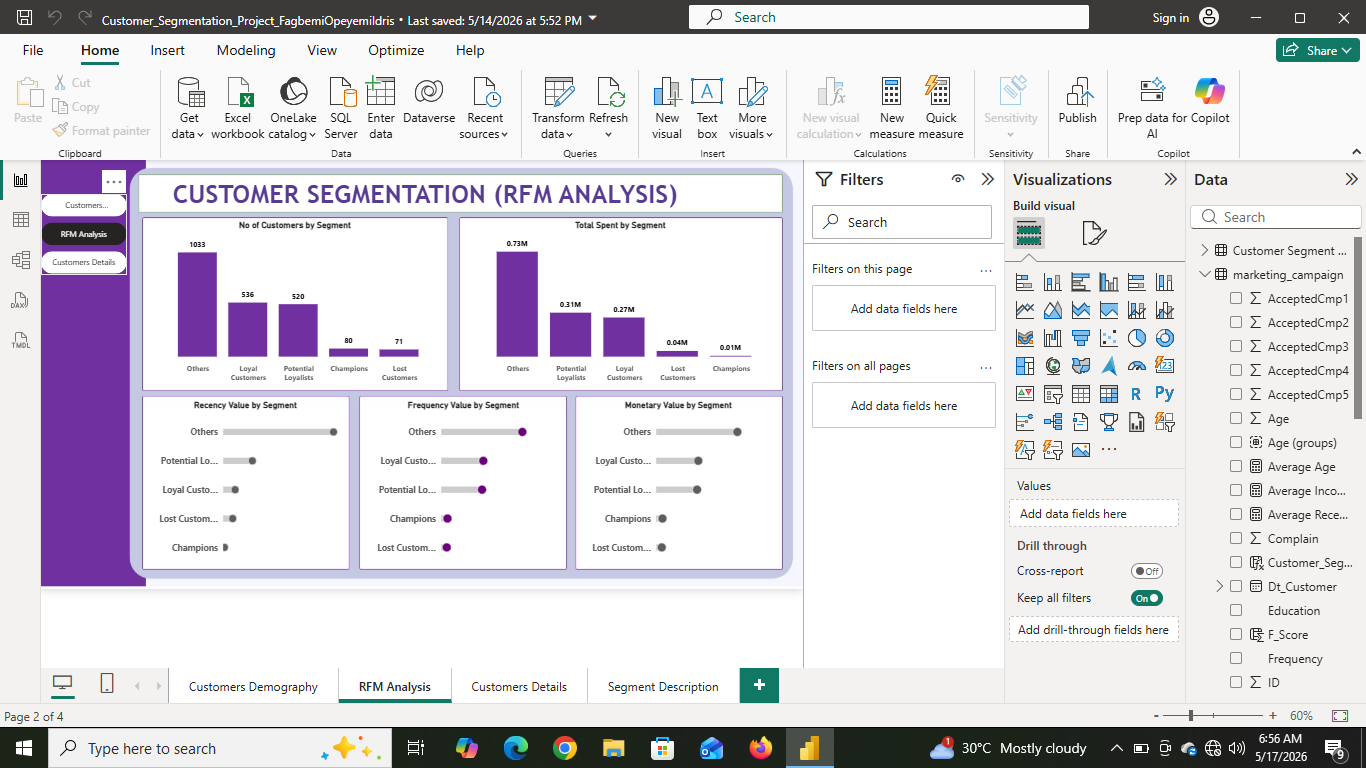

The page's visual inventory and layout, read from the dashboard file:
{"tool":"powerbi","page":{"name":"RFM Analysis","canvas":[1280,720],"ordinal":1},"visuals":[{"type":"columnChart","title":"No of Customers by Segment","fields":{"Category":["marketing_campaign.Customer_Segment"],"Y":["CountNonNull(marketing_campaign.ID)"]},"box":[178.1,100.8,497.2,280.5],"z":0},{"type":"columnChart","title":"Total Spent by Segment","fields":{"Category":["marketing_campaign.Customer_Segment"],"Y":["Sum(marketing_campaign.Total_Spent)"]},"box":[710.6,100.8,525.8,280.5],"z":1000},{"type":"barChart","title":"Recency Value by Segment","fields":{"Category":["marketing_campaign.Customer_Segment"],"Y":["Sum(marketing_campaign.Recency)"]},"box":[178.1,403.1,330.9,278.8],"z":2000},{"type":"textbox","box":[176.4,26.9,967.6,58.8],"z":3000},{"type":"pageNavigator","box":[0,57.1,144.5,136.1],"z":4000},{"type":"barChart","title":"Frequency Value by Segment","fields":{"Category":["marketing_campaign.Customer_Segment"],"Y":["CountNonNull(marketing_campaign.Frequency)"]},"box":[544.3,403.1,330.9,278.8],"z":5000},{"type":"barChart","title":"Monetary Value by Segment","fields":{"Category":["marketing_campaign.Customer_Segment"],"Y":["CountNonNull(marketing_campaign.Monetary)"]},"box":[905.4,403.1,330.9,278.8],"z":6000}]}

Visuals, with their boxes on the page's 1280x720 design canvas (x1, y1, x2, y2). These are canvas units, not pixel positions in the 1366x768 screenshot, which may show the page scaled, cropped or inside an application window:
"No of Customers by Segment" columnChart: (x1=178, y1=101, x2=675, y2=381)
"Total Spent by Segment" columnChart: (x1=711, y1=101, x2=1236, y2=381)
"Recency Value by Segment" barChart: (x1=178, y1=403, x2=509, y2=682)
textbox: (x1=176, y1=27, x2=1144, y2=86)
pageNavigator: (x1=0, y1=57, x2=144, y2=193)
"Frequency Value by Segment" barChart: (x1=544, y1=403, x2=875, y2=682)
"Monetary Value by Segment" barChart: (x1=905, y1=403, x2=1236, y2=682)
